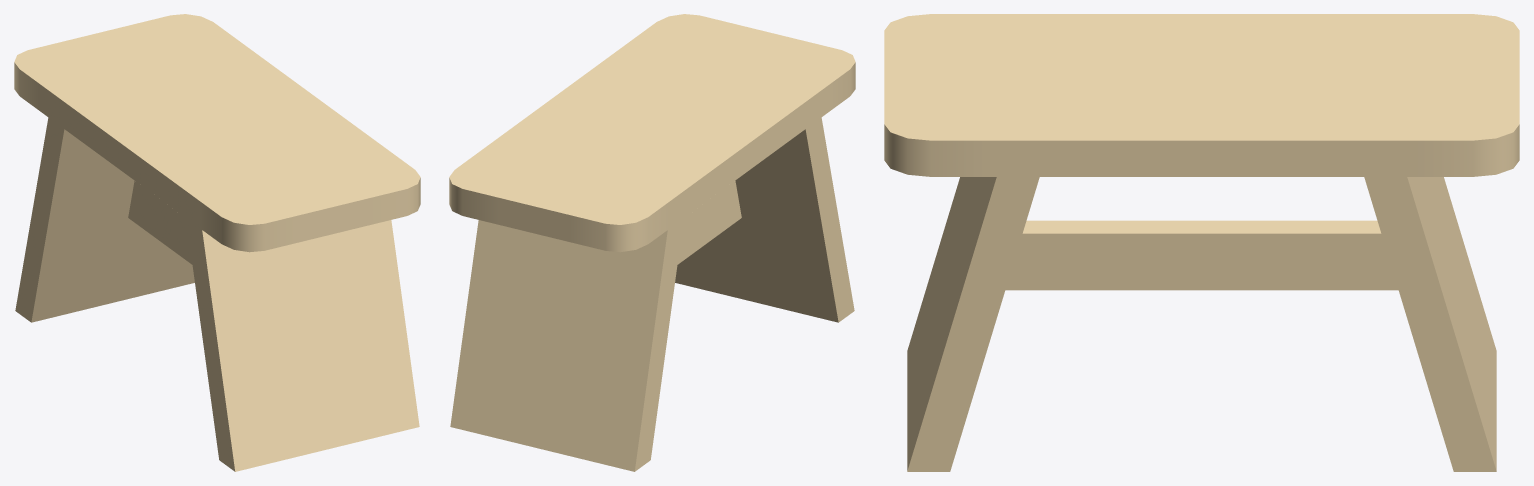
Rendered from batchchair.fbx.
3 views of the same model, side by side, from view 1: azimuth 30°, elevation 25°; view 2: azimuth 150°, elevation 25°; view 3: azimuth 270°, elevation 25° (orthographic). The views are drawn at different scales.
Parts seen in each view (by area): view 1: bathchair; view 2: bathchair; view 3: bathchair.
Part boxes in pixels (<box>): bathchair: <box>14,14,420,471</box>; bathchair: <box>449,14,855,471</box>; bathchair: <box>884,14,1519,471</box>.
Size of the model in its own units: 168 by 206 by 356.
